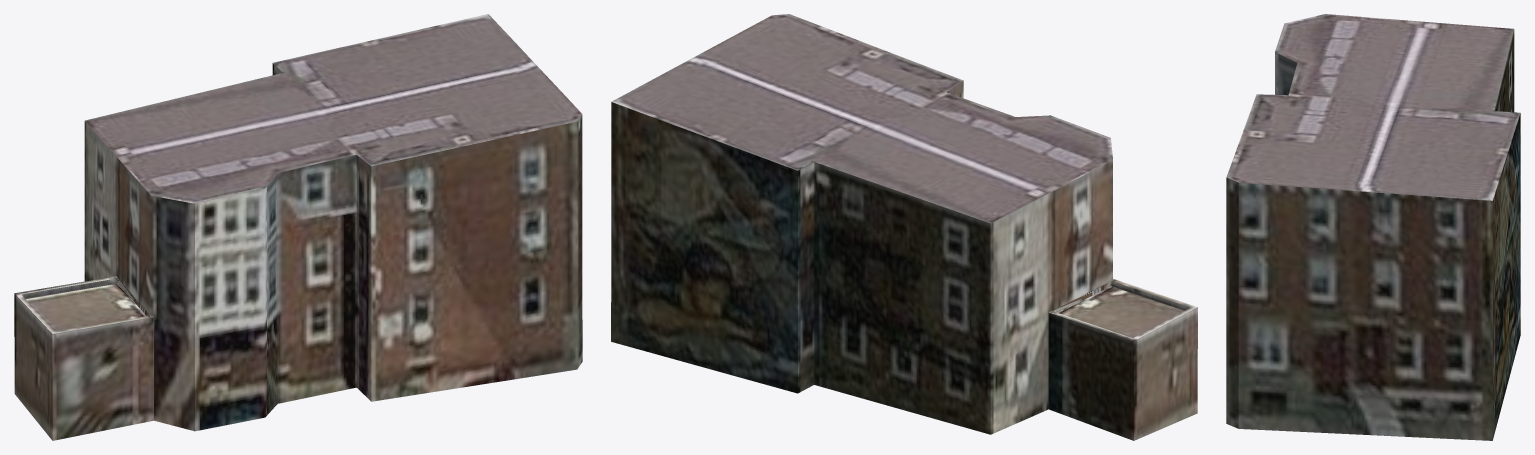
File: Buildings_subset_56.dae
The picture shows the model from 3 angles, left to right: view 1: azimuth 30°, elevation 25°; view 2: azimuth 150°, elevation 25°; view 3: azimuth 270°, elevation 25°; orthographic projection.
Parts seen in each view (by area): view 1: Buildings_subset_56.dae (×12); view 2: Buildings_subset_56.dae (×7); view 3: Buildings_subset_56.dae (×6).
Part boxes in pixels (x1,y1,x2,y2): Buildings_subset_56.dae (×12): (14, 14, 582, 440); Buildings_subset_56.dae (×7): (611, 14, 1197, 440); Buildings_subset_56.dae (×6): (1226, 14, 1520, 440).
Bounding box in the file's own units: 75.79 × 37.86 × 35.03.
Materials: 1 (1 with a texture image).
